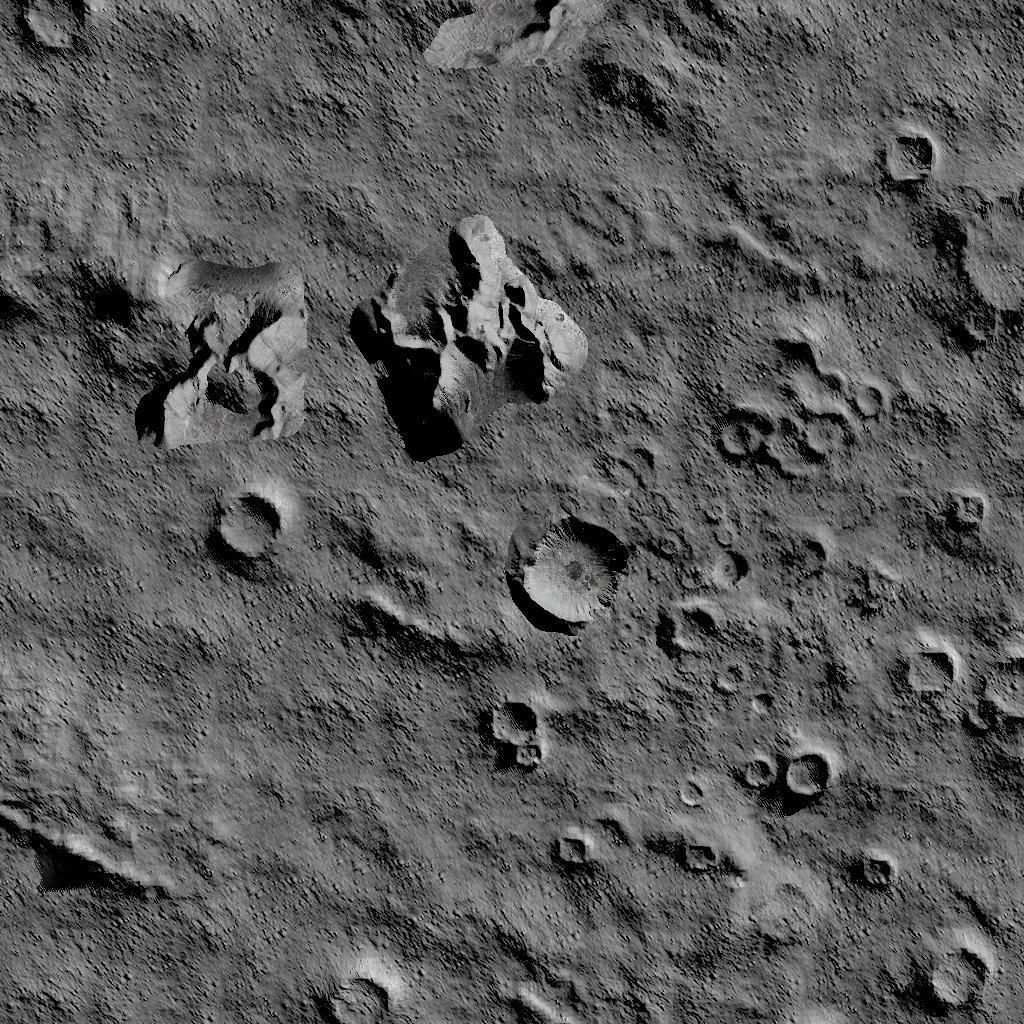Boulders: (345, 206, 598, 468), (399, 0, 785, 145), (92, 236, 320, 446), (328, 490, 479, 660), (0, 806, 180, 930), (485, 906, 665, 1024)
Crater: (696, 332, 892, 486), (498, 510, 640, 638), (652, 544, 760, 695), (892, 633, 1024, 740), (949, 184, 1024, 362), (897, 926, 1004, 1024), (725, 726, 841, 816), (204, 488, 298, 586), (466, 686, 554, 775), (305, 966, 398, 1024), (9, 2, 99, 58), (772, 526, 842, 596), (867, 126, 937, 192), (928, 476, 998, 540), (840, 838, 904, 894), (548, 820, 604, 871), (676, 832, 722, 880)
Plan surface: (12, 454, 192, 798), (209, 683, 454, 935), (116, 0, 364, 189), (2, 954, 282, 1024), (843, 0, 1023, 68)
